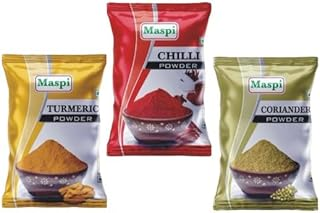Chilli Powder: (108, 1, 213, 156)
Coriander: (215, 58, 320, 212)
Turmeric: (3, 54, 109, 208)
